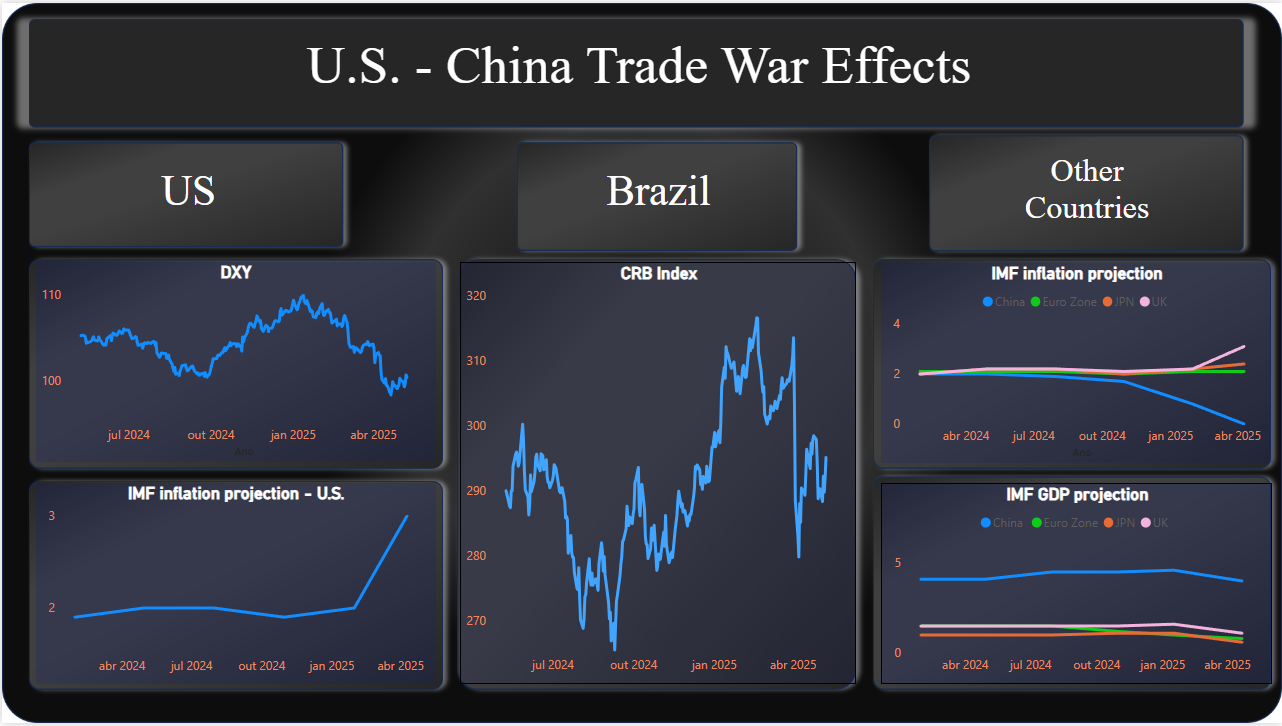

The page's visual inventory and layout, read from the dashboard file:
{"tool":"powerbi","page":{"name":"trade_war","canvas":[1280,720],"ordinal":0},"visuals":[{"type":"textbox","box":[37.9,26.3,1198.3,96.3],"z":0},{"type":"textbox","box":[50.6,157.6,271.4,68.1],"z":1000},{"type":"textbox","box":[536.9,157.6,239.3,65.2],"z":2000},{"type":"textbox","box":[944.4,144,281.1,93.4],"z":3000},{"type":"lineChart","title":"DXY","fields":{"Y":["Sum(CRB.DXY)"],"Category":["CRB.Data.Variation.Hierarquia de datas.Ano","CRB.Data.Variation.Hierarquia de datas.Trimestre","CRB.Data.Variation.Hierarquia de datas.Mês","CRB.Data.Variation.Hierarquia de datas.Dia"]},"box":[34,258.7,400,200],"z":4000},{"type":"lineChart","title":"IMF inflation projection - U.S.","fields":{"Category":["projecao_inflacao_FMI.DATA.Variation.Hierarquia de datas.Ano","projecao_inflacao_FMI.DATA.Variation.Hierarquia de datas.Trimestre","projecao_inflacao_FMI.DATA.Variation.Hierarquia de datas.Mês","projecao_inflacao_FMI.DATA.Variation.Hierarquia de datas.Dia"],"Y":["Sum(projecao_inflacao_FMI.US)"]},"box":[34,480.5,400,200.4],"z":5000},{"type":"lineChart","title":"CRB Index","fields":{"Y":["Sum(CRB.CRB)"],"Category":["CRB.Data.Variation.Hierarquia de datas.Ano","CRB.Data.Variation.Hierarquia de datas.Trimestre","CRB.Data.Variation.Hierarquia de datas.Mês","CRB.Data.Variation.Hierarquia de datas.Dia"]},"box":[458.1,258.7,395.9,422.1],"z":6000},{"type":"lineChart","title":"IMF inflation projection","fields":{"Y":["Sum(projecao_inflacao_FMI.China)","Sum(projecao_inflacao_FMI.Euro Zone)","Sum(projecao_inflacao_FMI.JPN)","Sum(projecao_inflacao_FMI.UK)"],"Category":["projecao_inflacao_FMI.DATA.Variation.Hierarquia de datas.Ano","projecao_inflacao_FMI.DATA.Variation.Hierarquia de datas.Trimestre","projecao_inflacao_FMI.DATA.Variation.Hierarquia de datas.Mês","projecao_inflacao_FMI.DATA.Variation.Hierarquia de datas.Dia"]},"box":[879.3,259.7,392,200.4],"z":7000},{"type":"lineChart","title":"IMF GDP projection","fields":{"Y":["Sum(projecao_PIB_FMI.China )","Sum(projecao_PIB_FMI.Euro Zone)","Sum(projecao_PIB_FMI.JPN)","Sum(projecao_PIB_FMI.UK)"],"Category":["projecao_PIB_FMI.data.Variation.Hierarquia de datas.Ano","projecao_PIB_FMI.data.Variation.Hierarquia de datas.Trimestre","projecao_PIB_FMI.data.Variation.Hierarquia de datas.Mês","projecao_PIB_FMI.data.Variation.Hierarquia de datas.Dia"]},"box":[879.3,480.5,391,200.4],"z":8000}]}

Visuals, with their boxes in screenshot pixels (x1, y1, x2, y2), scaled from the page's 1280x720 canvas onto the 1282x726 screenshot:
textbox: 38,27,1238,124
textbox: 51,159,323,228
textbox: 538,159,777,225
textbox: 946,145,1227,239
"DXY" lineChart: 34,261,435,463
"IMF inflation projection - U.S." lineChart: 34,485,435,687
"CRB Index" lineChart: 459,261,855,686
"IMF inflation projection" lineChart: 881,262,1273,464
"IMF GDP projection" lineChart: 881,485,1272,687
